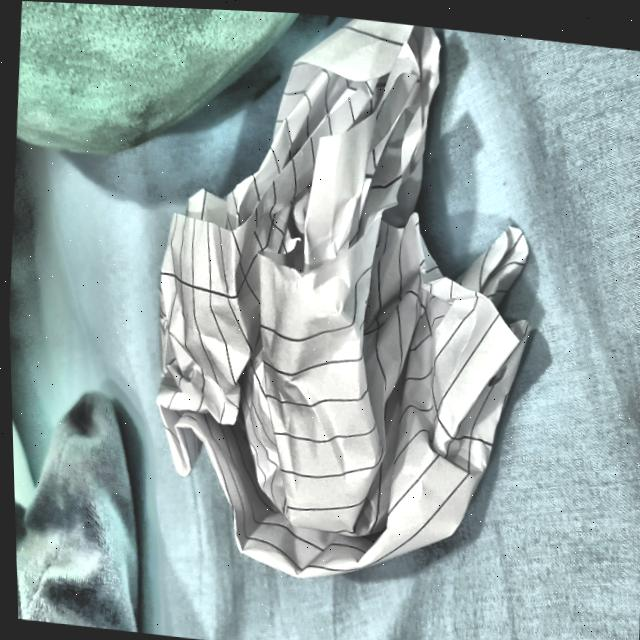paper: (134, 5, 544, 588)
